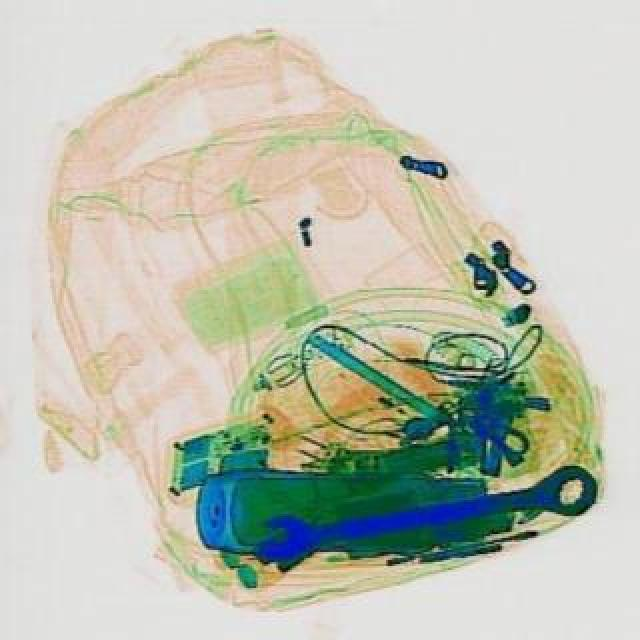scissors: (250, 460, 598, 564)
